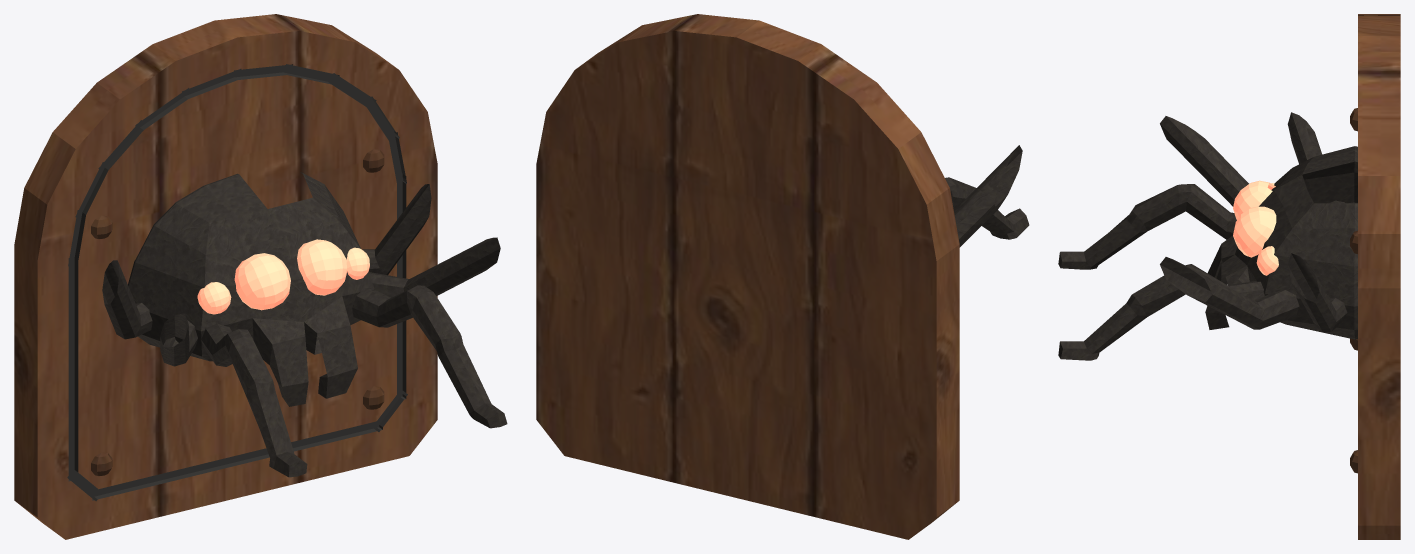
The model's file is hm_spider_trophy.glb.
3 renders of one model, left to right at view 1: azimuth 30°, elevation 25°; view 2: azimuth 150°, elevation 25°; view 3: azimuth 270°, elevation 25°, orthographic. The views are drawn at different scales.
Visible parts, largest first — view 1: model; view 2: model; view 3: model.
Boxes of the visible parts, x1,y1,x2,y2 form: model: (14,14,507,539); model: (536,14,1029,539); model: (1058,14,1400,539).
Size of the model in its own units: 0.5 by 0.55 by 0.4004.
5 materials, 3 textured.
